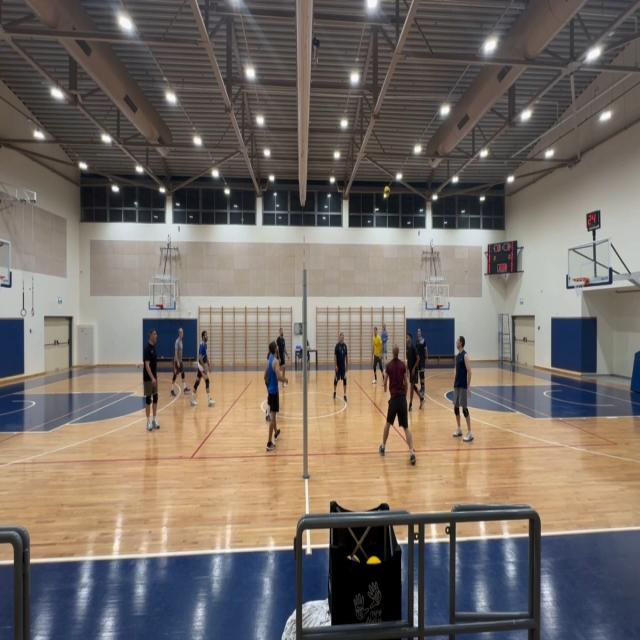volleyball: (384, 186, 390, 196)
